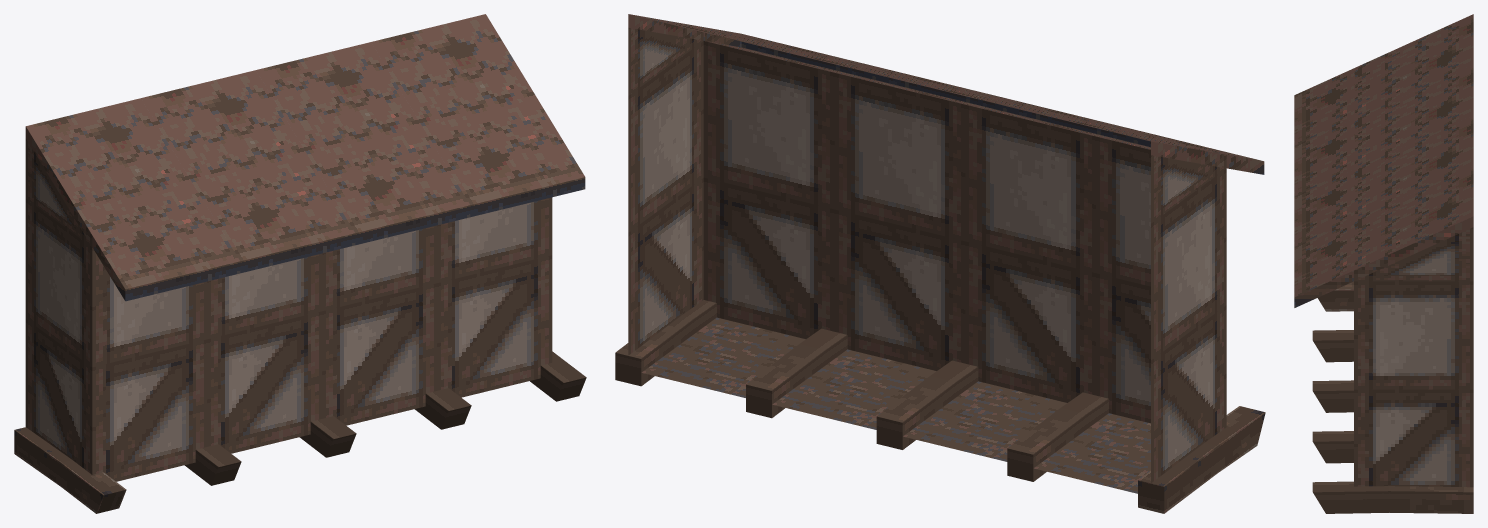
The model's file is roof_red_stickout.glb.
3 renders of one model, left to right at view 1: azimuth 30°, elevation 25°; view 2: azimuth 150°, elevation 25°; view 3: azimuth 270°, elevation 25°, orthographic. The views are drawn at different scales.
Visible parts, largest first — view 1: roof_red_stickout; view 2: roof_red_stickout; view 3: roof_red_stickout.
Part boxes in pixels (left/top/right/bottom): roof_red_stickout: left=14, top=14, right=586, bottom=513; roof_red_stickout: left=615, top=14, right=1265, bottom=513; roof_red_stickout: left=1294, top=14, right=1473, bottom=513.
Bounding box in the file's own units: 5.25 × 3.37 × 1.88.
Materials: 1 (1 with a texture image).
